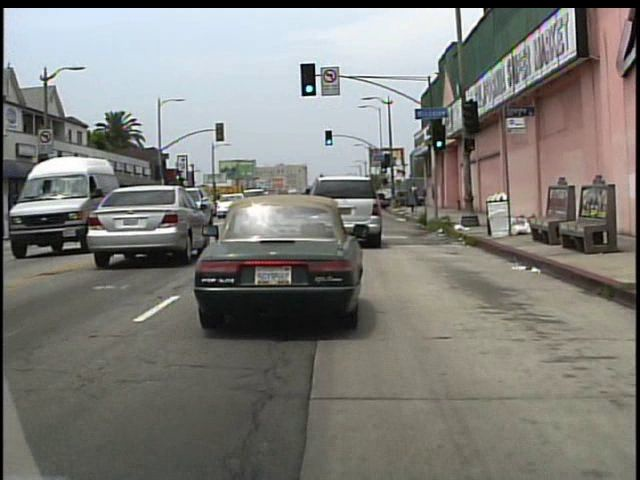person: (412, 181, 423, 208)
